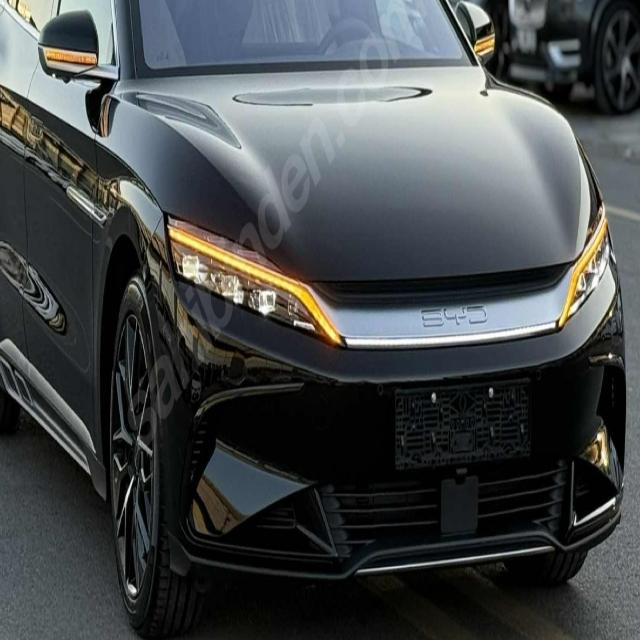byd: (416, 298, 491, 336)
